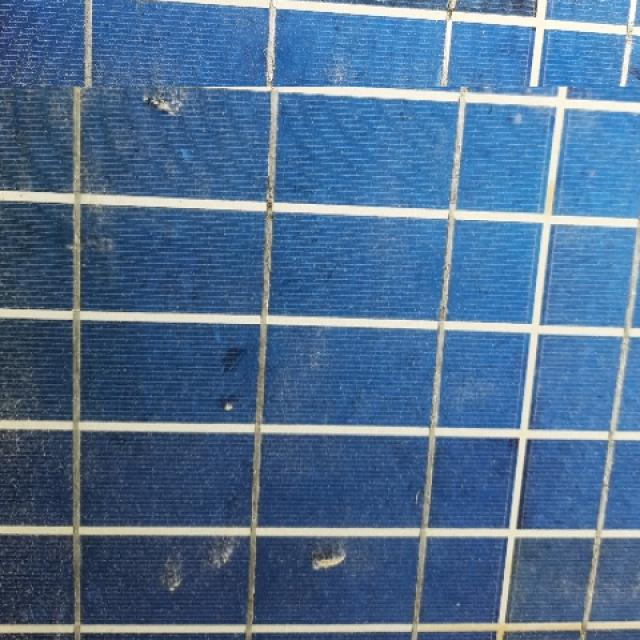Dirty: (0, 87, 640, 640)
